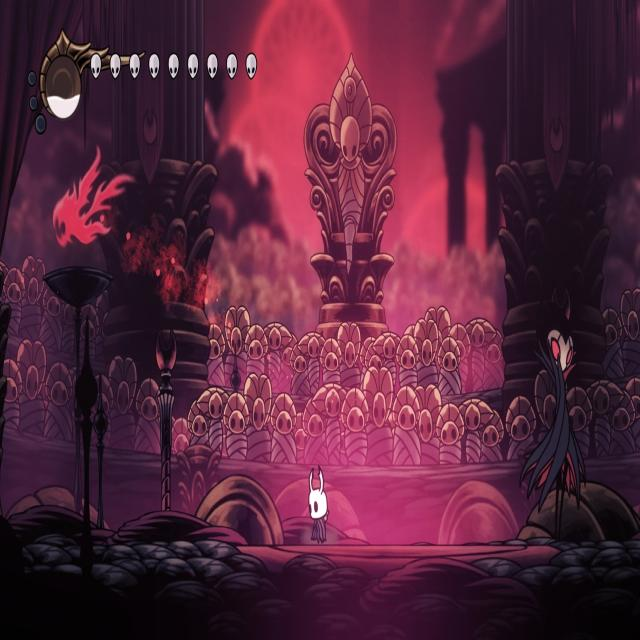Fire Bat: (52, 148, 131, 250)
Grimm: (514, 304, 594, 548)
Player: (307, 464, 332, 549)
